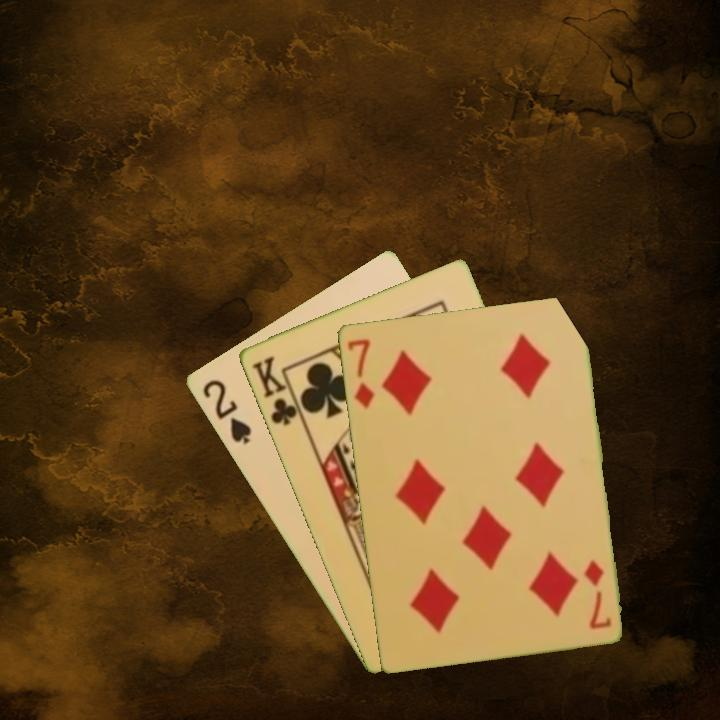2s: (198, 376, 254, 447)
7d: (343, 335, 377, 411), (580, 556, 614, 632)
Kc: (247, 352, 305, 429)
